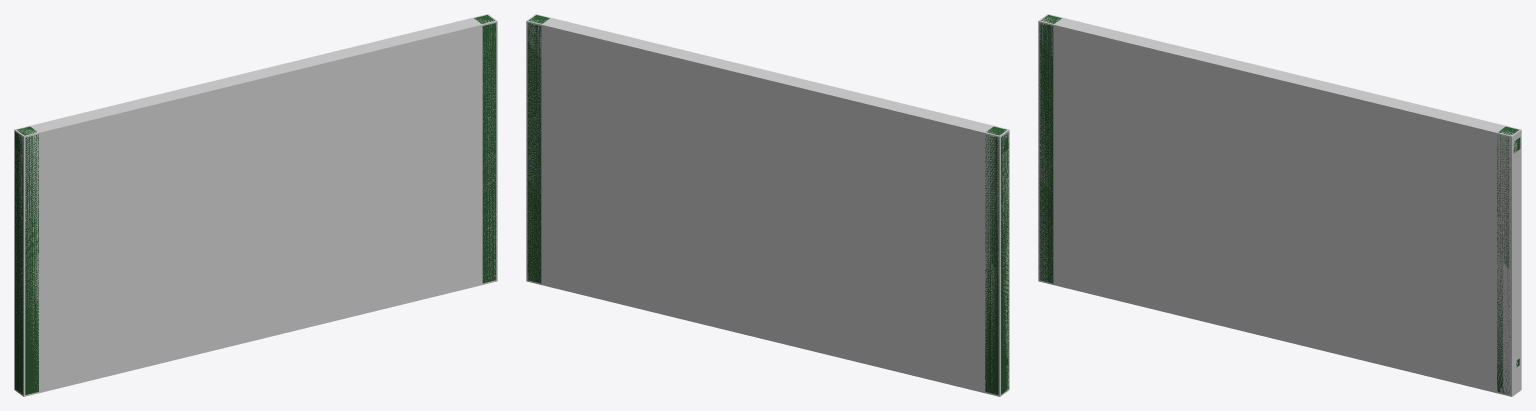
File: KIT_SF_Railing_GreenBar_A.glb
3 views of the same model, side by side, from view 1: azimuth 30°, elevation 25°; view 2: azimuth 150°, elevation 25°; view 3: azimuth 330°, elevation 25° (orthographic).
Parts seen in each view (by area): view 1: KIT_SF_Railing_GreenBar_A_COL, KIT_SF_Railing_GreenBar_A; view 2: KIT_SF_Railing_GreenBar_A_COL, KIT_SF_Railing_GreenBar_A; view 3: KIT_SF_Railing_GreenBar_A_COL, KIT_SF_Railing_GreenBar_A.
Part boxes in pixels (box(x1,y1,x2,y2)): KIT_SF_Railing_GreenBar_A_COL: box(14, 14, 497, 396); KIT_SF_Railing_GreenBar_A: box(15, 15, 496, 394); KIT_SF_Railing_GreenBar_A_COL: box(526, 14, 1009, 396); KIT_SF_Railing_GreenBar_A: box(527, 15, 1008, 394); KIT_SF_Railing_GreenBar_A_COL: box(1038, 14, 1521, 396); KIT_SF_Railing_GreenBar_A: box(1039, 15, 1520, 393).
Size of what is drawn, in the model's own units: 2 by 1.05 by 0.07.
